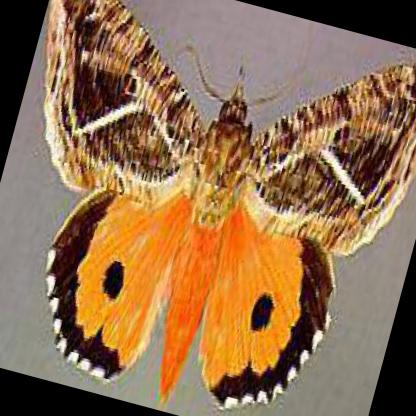fruit sucking moth: (43, 0, 416, 415)
